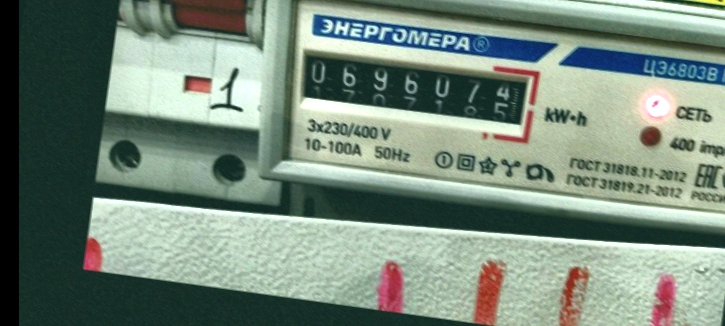0: (310, 56, 331, 84), (435, 71, 454, 99)
4: (497, 78, 514, 101)
5: (494, 100, 511, 121)
6: (404, 66, 424, 95), (341, 60, 362, 87)
7: (466, 76, 485, 104)
9: (372, 64, 393, 92)
screen: (292, 35, 546, 145)
